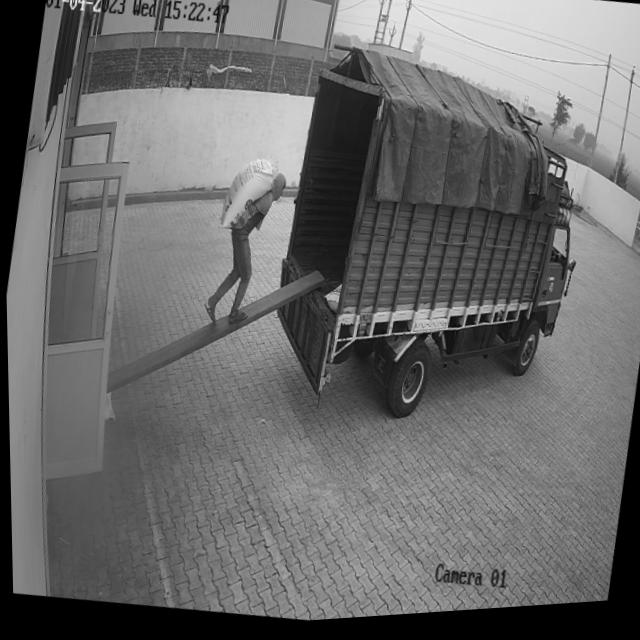sack: (216, 155, 277, 238)
